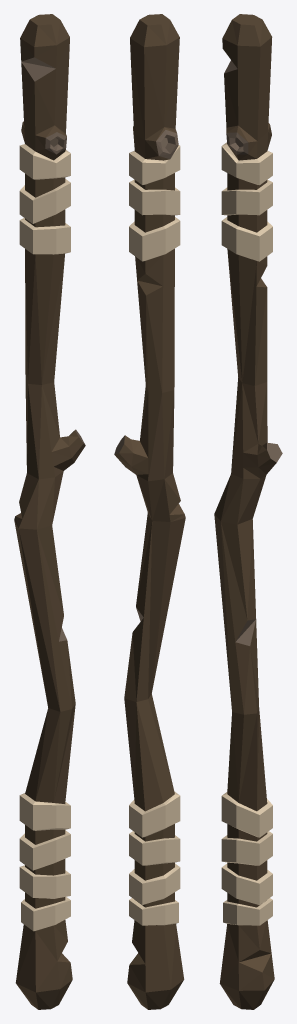
The model's file is SM_Wep_Staff_01.fbx.
3 renders of one model, left to right at view 1: azimuth 30°, elevation 25°; view 2: azimuth 210°, elevation 25°; view 3: azimuth 330°, elevation 25°, orthographic.
Visible parts, largest first — view 1: SM_Wep_Staff_01; view 2: SM_Wep_Staff_01; view 3: SM_Wep_Staff_01.
Boxes of the visible parts, left/top/right/bottom form: SM_Wep_Staff_01: left=14, top=14, right=85, bottom=1009; SM_Wep_Staff_01: left=114, top=14, right=185, bottom=1009; SM_Wep_Staff_01: left=214, top=14, right=282, bottom=1009.
Bounding box in the file's own units: 0.00129 × 0.0185 × 0.00106.
1 material, 1 textured.
